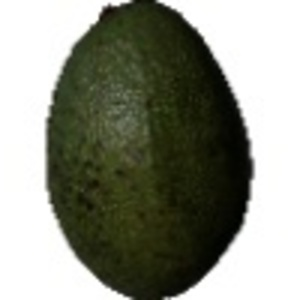abacate: (44, 2, 254, 297)
